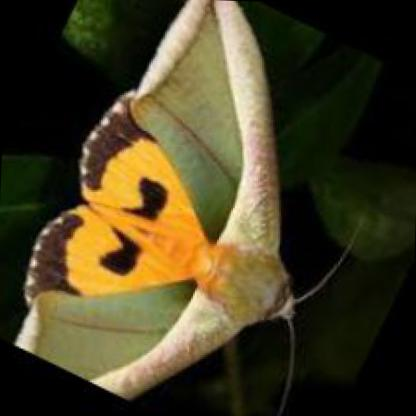fruit sucking moth: (14, 0, 294, 395)
